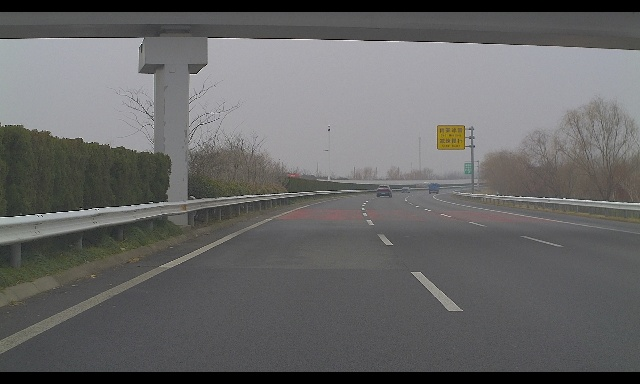car: (376, 185, 392, 197), (402, 186, 410, 193)
truck: (286, 173, 310, 192), (428, 183, 439, 194)
